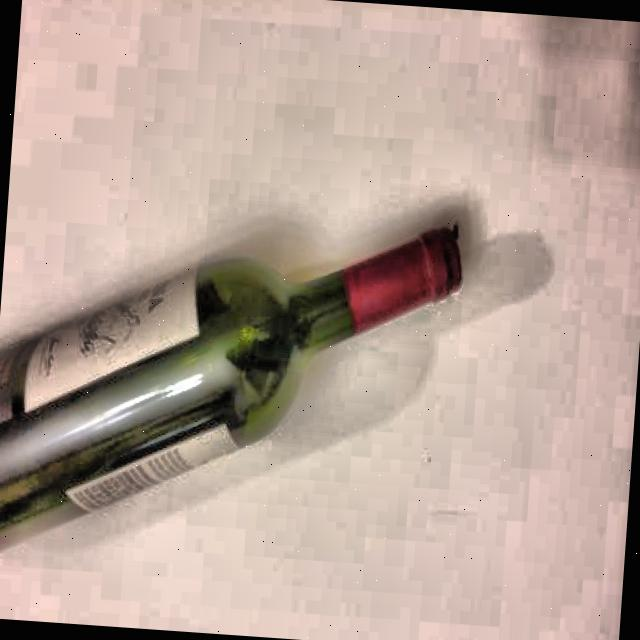glass: (0, 187, 465, 597)
